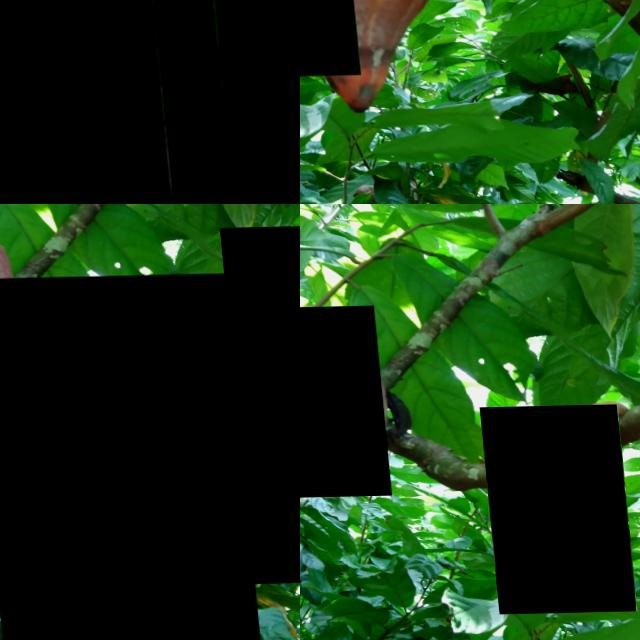Fitoftora: (474, 406, 627, 616), (215, 226, 300, 585), (63, 622, 129, 640)
Sana: (0, 275, 248, 640), (125, 0, 300, 204), (0, 0, 163, 204), (300, 306, 384, 498), (201, 0, 300, 123)
